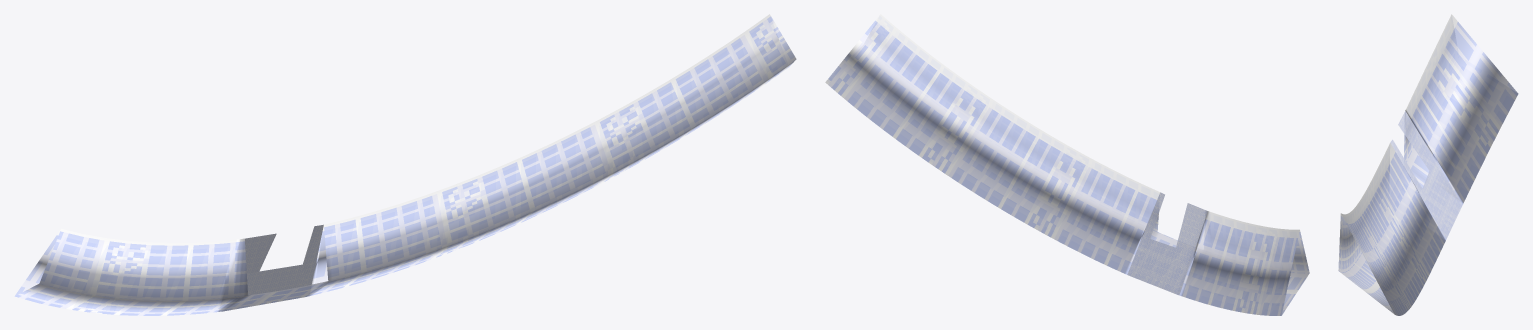
File: TruckOpeningSegment.obj
3 renders of one model, left to right at view 1: azimuth 30°, elevation 25°; view 2: azimuth 150°, elevation 25°; view 3: azimuth 270°, elevation 25°, orthographic. The views are drawn at different scales.
Parts seen in each view (by area): view 1: TruckOpeningSegment; view 2: TruckOpeningSegment; view 3: TruckOpeningSegment.
Part boxes in pixels (bbox=[...]): TruckOpeningSegment: bbox=[14, 14, 796, 315]; TruckOpeningSegment: bbox=[825, 14, 1309, 315]; TruckOpeningSegment: bbox=[1338, 14, 1518, 315].
Size of the model in its own units: 91.64 by 27.95 by 21.7.
